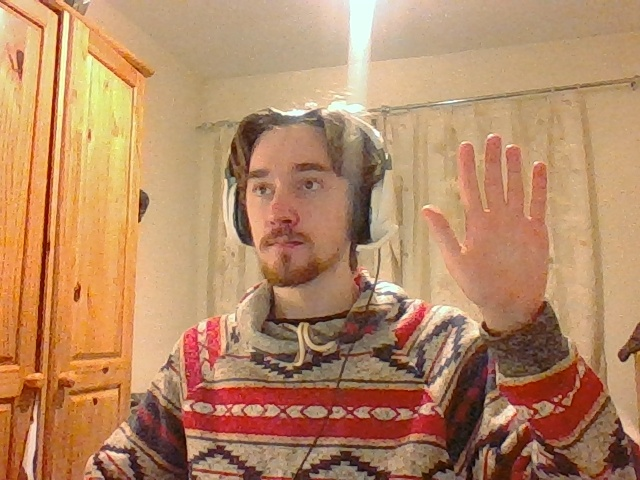hello: (422, 134, 552, 314)
